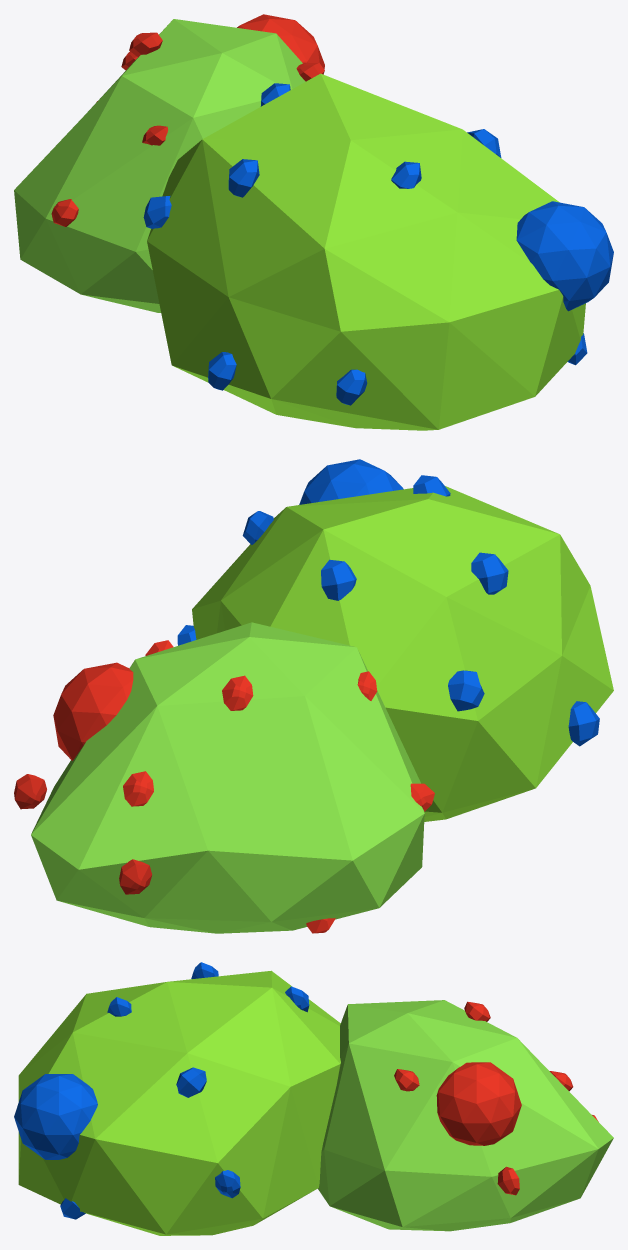
File: BerriBushes.fbx
The picture shows the model from 3 angles, top to bottom: view 1: azimuth 30°, elevation 25°; view 2: azimuth 150°, elevation 25°; view 3: azimuth 270°, elevation 25°; orthographic projection. The views are drawn at different scales.
Parts seen in each view (by area): view 1: Arbustos.001, Azules.001, Rojas.001; view 2: Arbustos.001, Rojas.001, Azules.001; view 3: Arbustos.001, Azules.001, Rojas.001.
Boxes of the visible parts, x1,y1,x2,y2 form: Arbustos.001: [14, 19, 585, 430]; Azules.001: [143, 83, 613, 405]; Rojas.001: [51, 14, 324, 226]; Arbustos.001: [31, 486, 613, 933]; Rojas.001: [14, 640, 434, 933]; Azules.001: [177, 459, 599, 746]; Arbustos.001: [18, 970, 613, 1235]; Azules.001: [14, 962, 309, 1219]; Rojas.001: [394, 1001, 598, 1195].
Bounding box in the file's own units: 132 × 108 × 244.
